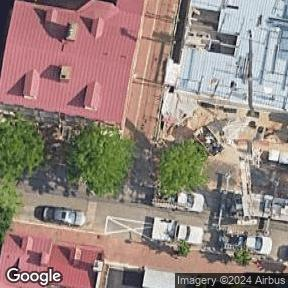vegetation: (55, 113, 143, 205), (0, 118, 43, 246), (159, 140, 207, 198), (230, 243, 253, 268), (173, 240, 192, 259)
